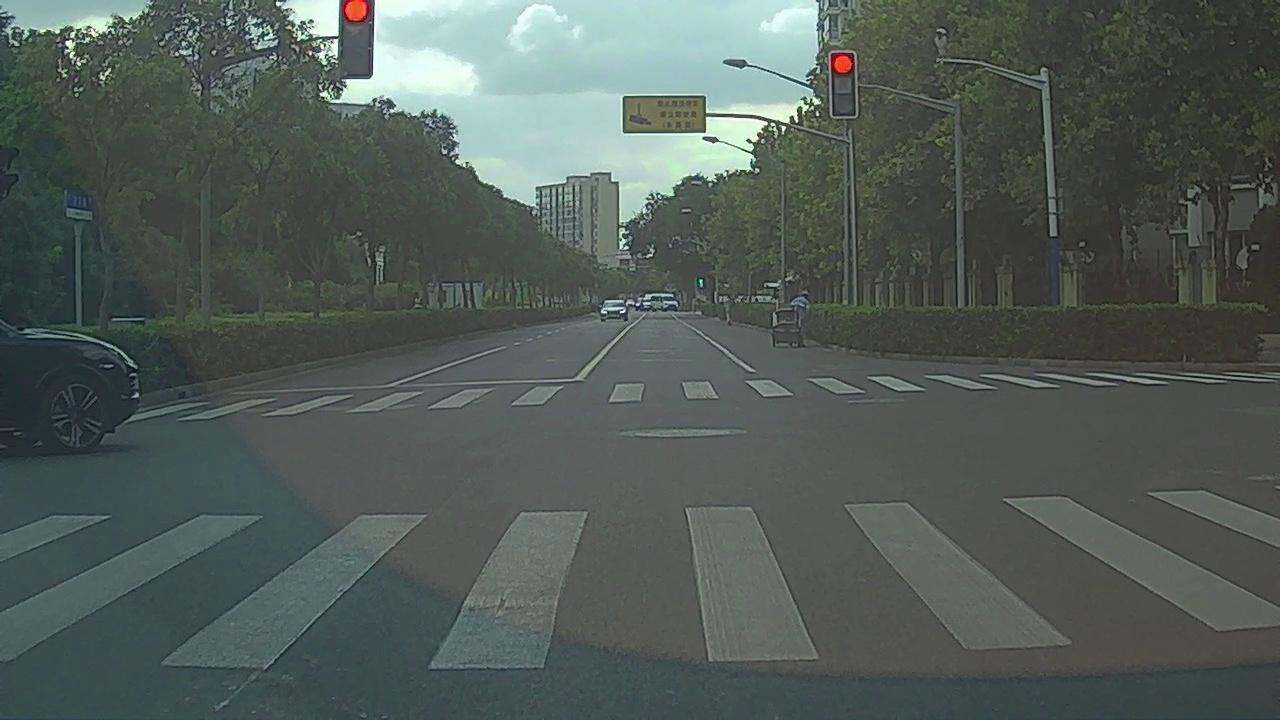traffic_light: (338, 1, 372, 78), (829, 51, 855, 116)
